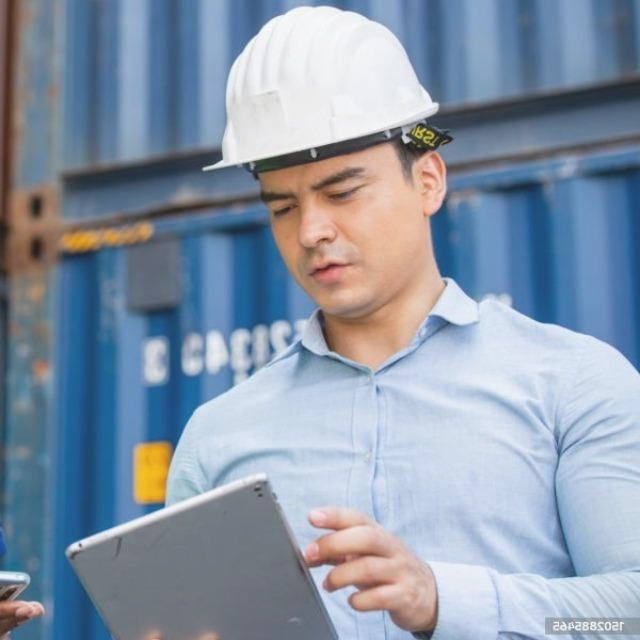Con_Casco: (212, 4, 442, 320)
Sin_Chaleco: (162, 315, 640, 640)
